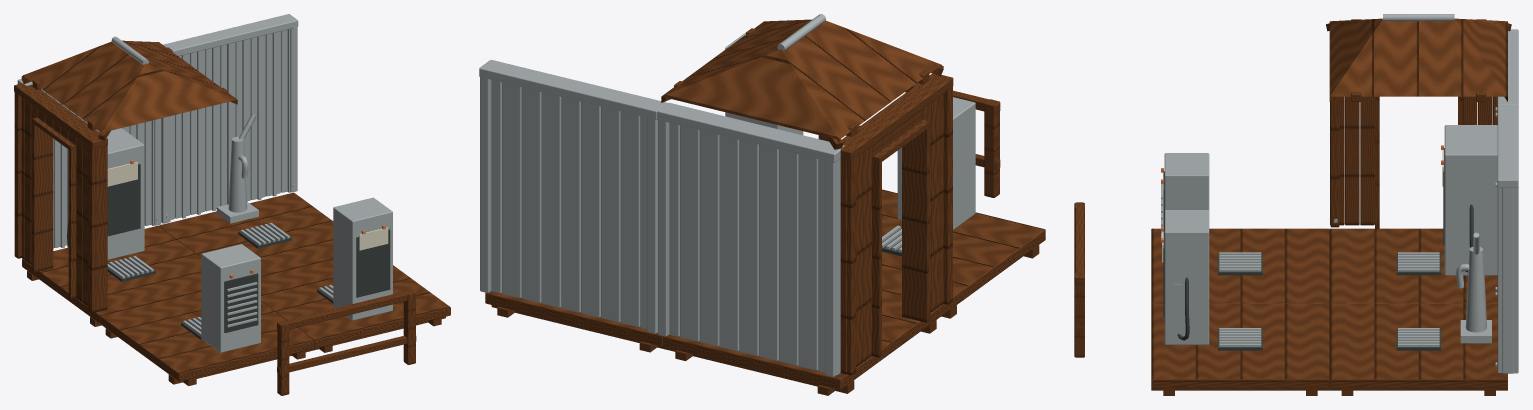
Rendered from roadside-survival-stops-assembled-surviv-a54469ce-starter-scene__23585.glb.
3 renders of one model, left to right at view 1: azimuth 30°, elevation 25°; view 2: azimuth 150°, elevation 25°; view 3: azimuth 270°, elevation 25°, orthographic. The views are drawn at different scales.
Visible parts, largest first — view 1: 005-service-bay-side/0, 006-restroom-entry-wall/0, 007-pump-canopy-corner/0, 001-service-floor-drain/0, 002-service-floor-drain/0, 003-service-floor-drain/0, 000-service-floor-drain/0, 011-compressed-air-station/0, 012-modular-survival-base-builder--straight-guardrail/0, 010-single-hose-dispenser/0, 004-service-bay-side/0, 009-twin-hose-dispenser/0 (+8 smaller); view 2: 004-service-bay-side/0, 005-service-bay-side/0, 006-restroom-entry-wall/0, 007-pump-canopy-corner/0, 001-service-floor-drain/0, 000-service-floor-drain/0, 011-compressed-air-station/0, 002-service-floor-drain/0, 012-modular-survival-base-builder--straight-guardrail/0, 007-pump-canopy-corner/1; view 3: 007-pump-canopy-corner/0, 002-service-floor-drain/0, 003-service-floor-drain/0, 001-service-floor-drain/0, 000-service-floor-drain/0, 006-restroom-entry-wall/0, 009-twin-hose-dispenser/0, 010-single-hose-dispenser/0, 005-service-bay-side/0, 011-compressed-air-station/0, 008-manual-fuel-pump/0, 012-modular-survival-base-builder--straight-guardrail/0 (+7 smaller).
Boxes of the visible parts, x1,y1,x2,y2 form: 005-service-bay-side/0: (161, 14, 298, 223); 006-restroom-entry-wall/0: (14, 83, 107, 312); 007-pump-canopy-corner/0: (21, 40, 237, 140); 001-service-floor-drain/0: (100, 292, 314, 385); 002-service-floor-drain/0: (158, 192, 333, 276); 003-service-floor-drain/0: (261, 259, 450, 352); 000-service-floor-drain/0: (22, 226, 201, 326); 011-compressed-air-station/0: (201, 244, 260, 352); 012-modular-survival-base-builder--straight-guardrail/0: (277, 289, 416, 395); 010-single-hose-dispenser/0: (333, 197, 392, 320); 004-service-bay-side/0: (17, 79, 161, 248); 009-twin-hose-dispenser/0: (67, 128, 144, 259); 004-service-bay-side/0: (657, 102, 844, 376); 005-service-bay-side/0: (479, 59, 667, 333); 006-restroom-entry-wall/0: (840, 73, 953, 375); 007-pump-canopy-corner/0: (661, 19, 943, 149); 001-service-floor-drain/0: (882, 189, 1045, 318); 000-service-floor-drain/0: (663, 290, 942, 395); 011-compressed-air-station/0: (897, 97, 975, 229); 002-service-floor-drain/0: (485, 291, 669, 352); 012-modular-survival-base-builder--straight-guardrail/0: (818, 83, 1000, 197); 007-pump-canopy-corner/1: (777, 14, 825, 51); 007-pump-canopy-corner/0: (1326, 18, 1511, 101); 002-service-floor-drain/0: (1329, 304, 1507, 395); 003-service-floor-drain/0: (1151, 304, 1329, 395); 001-service-floor-drain/0: (1151, 228, 1329, 304); 000-service-floor-drain/0: (1329, 228, 1497, 304); 006-restroom-entry-wall/0: (1330, 96, 1497, 228); 009-twin-hose-dispenser/0: (1444, 125, 1497, 275); 010-single-hose-dispenser/0: (1164, 210, 1209, 344); 005-service-bay-side/0: (1495, 105, 1518, 373); 011-compressed-air-station/0: (1161, 153, 1209, 238); 008-manual-fuel-pump/0: (1456, 232, 1491, 343); 012-modular-survival-base-builder--straight-guardrail/0: (1074, 202, 1084, 357).
Bounding box in the file's own units: 4.14 × 3.33 × 4.98.
Materials: 5 (1 with a texture image).
